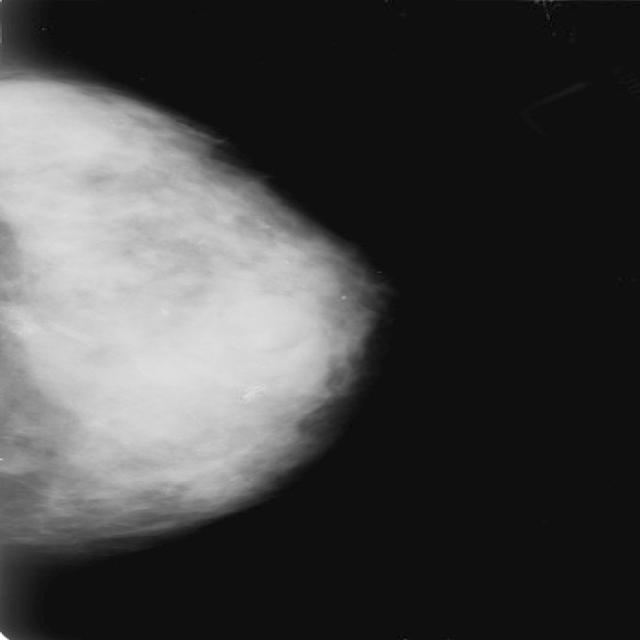tumour: (216, 294, 314, 352)
